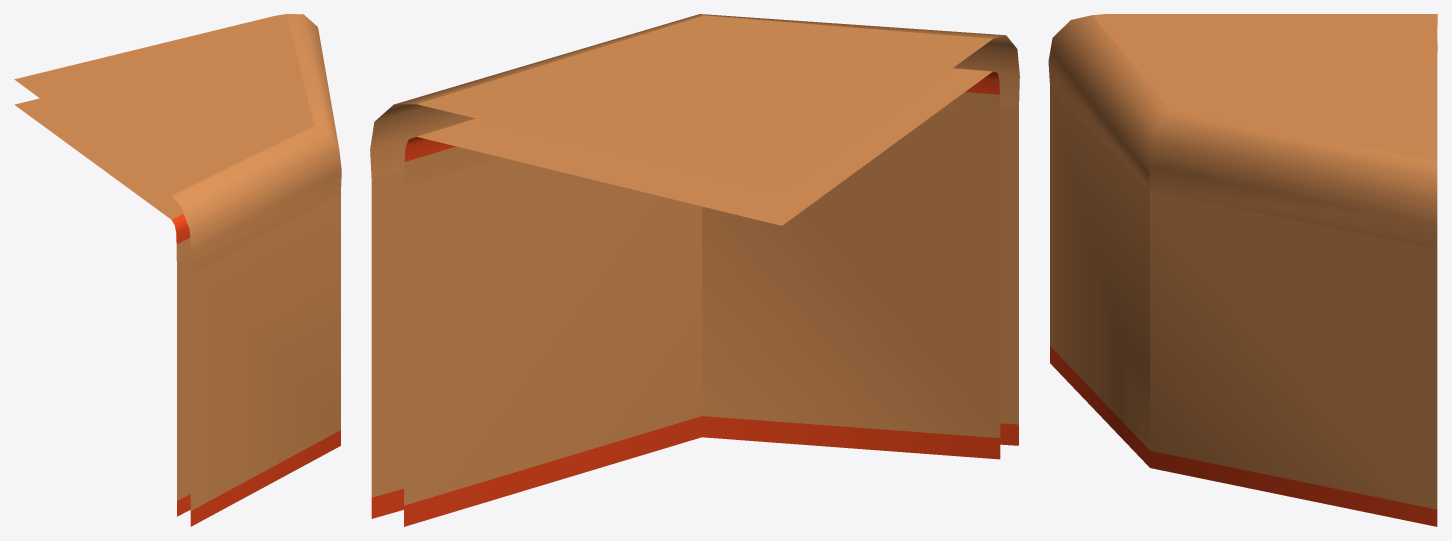
File: CornerNoCaps.fbx
The picture shows the model from 3 angles, left to right: view 1: azimuth 30°, elevation 25°; view 2: azimuth 150°, elevation 25°; view 3: azimuth 270°, elevation 25°; orthographic projection. The views are drawn at different scales.
Parts seen in each view (by area): view 1: CornerNoCaps; view 2: CornerNoCaps; view 3: CornerNoCaps.
Boxes of the visible parts, left/top/right/bottom form: CornerNoCaps: left=14, top=14, right=341, bottom=526; CornerNoCaps: left=370, top=14, right=1019, bottom=526; CornerNoCaps: left=1048, top=14, right=1437, bottom=526.
Size of the model in its own units: 3.18 by 3.15 by 3.18.
